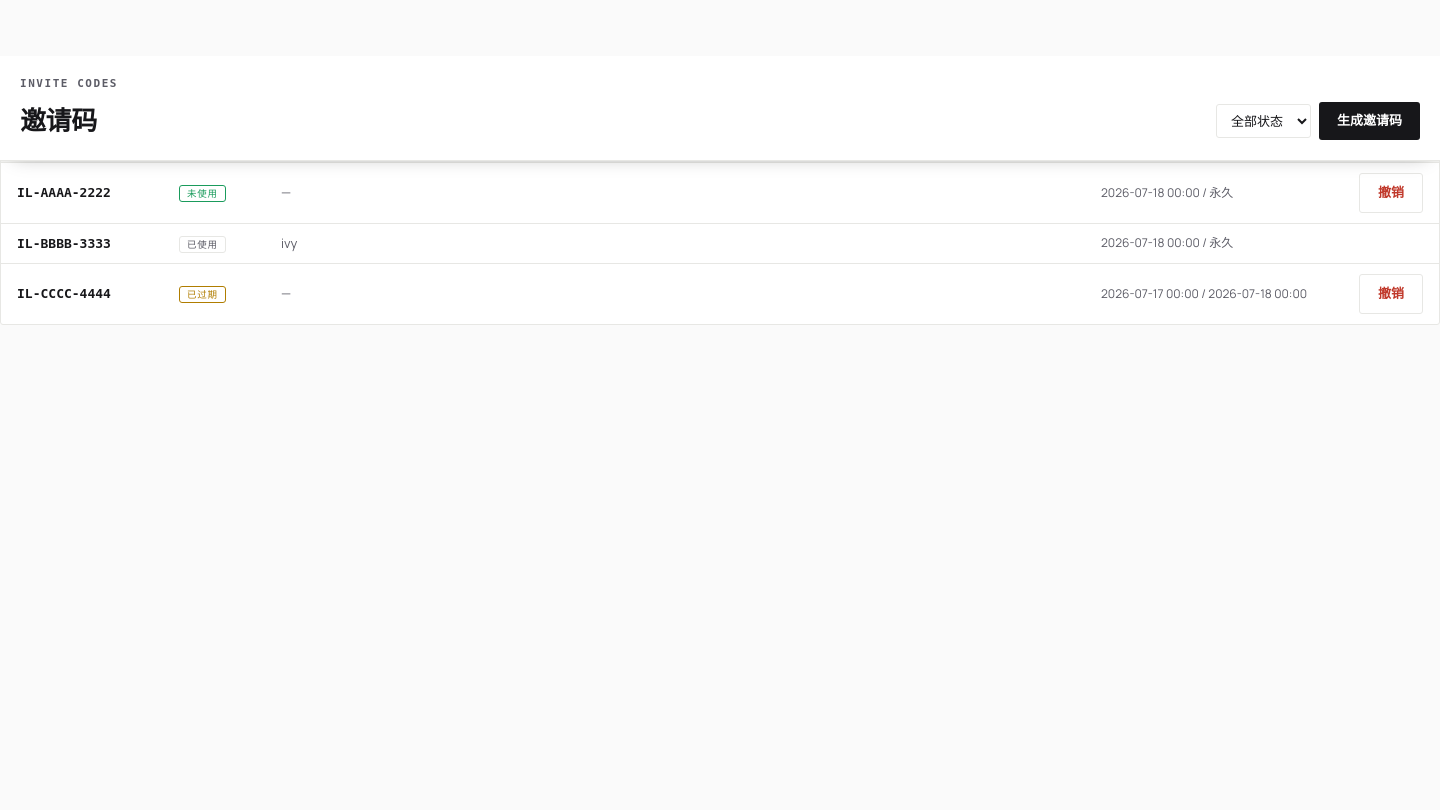
Test case: 生成:填数量提交,展示明文码列表
The image size is (1440, 810).
Expected: the text "IL-AAAA-2222" is shown, [17,185,111,200]
Click the button "生成邀请码": (1370, 121) [1319,102,1420,140]
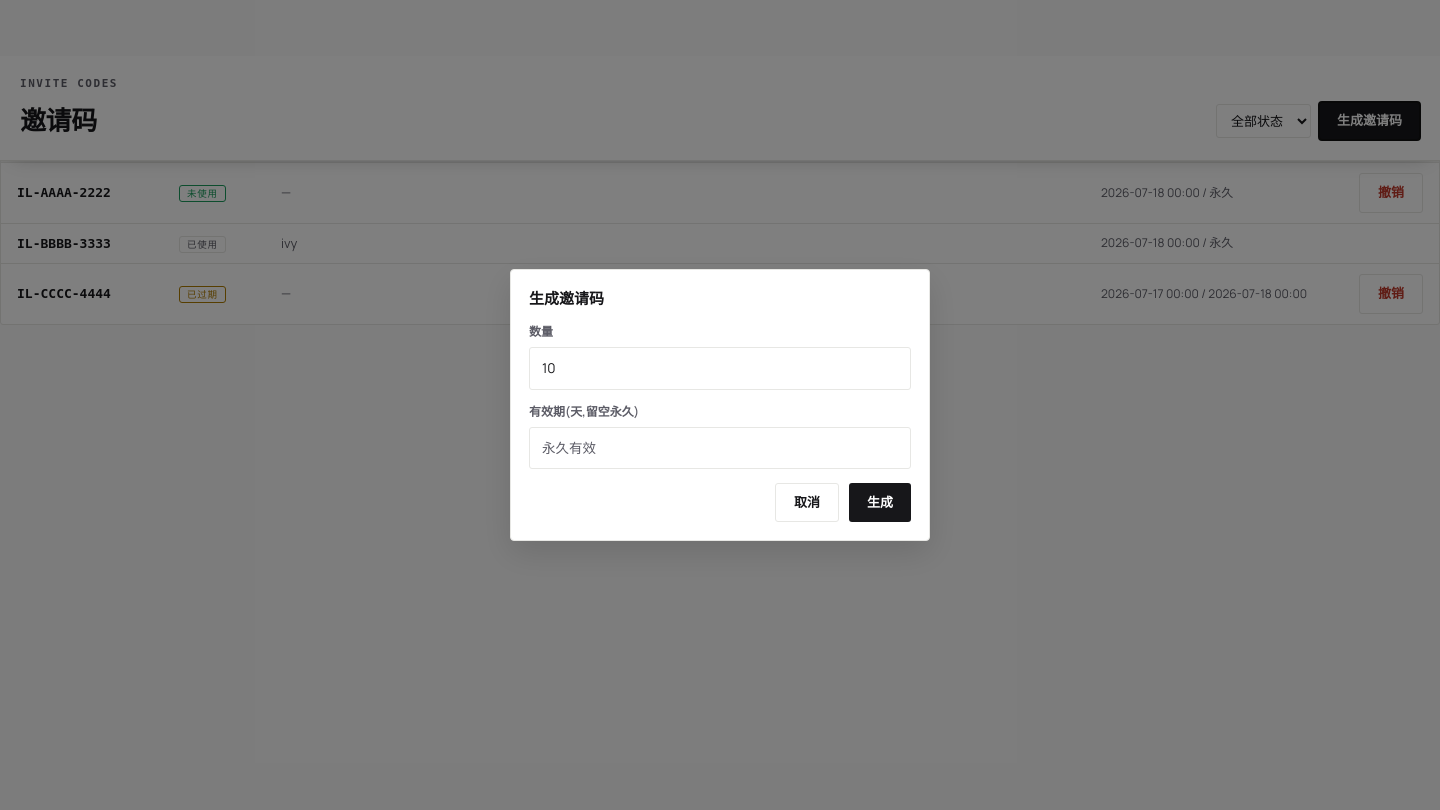
Replace the text in the number field labelled "数量" with "2": (720, 368) [529,347,911,390]
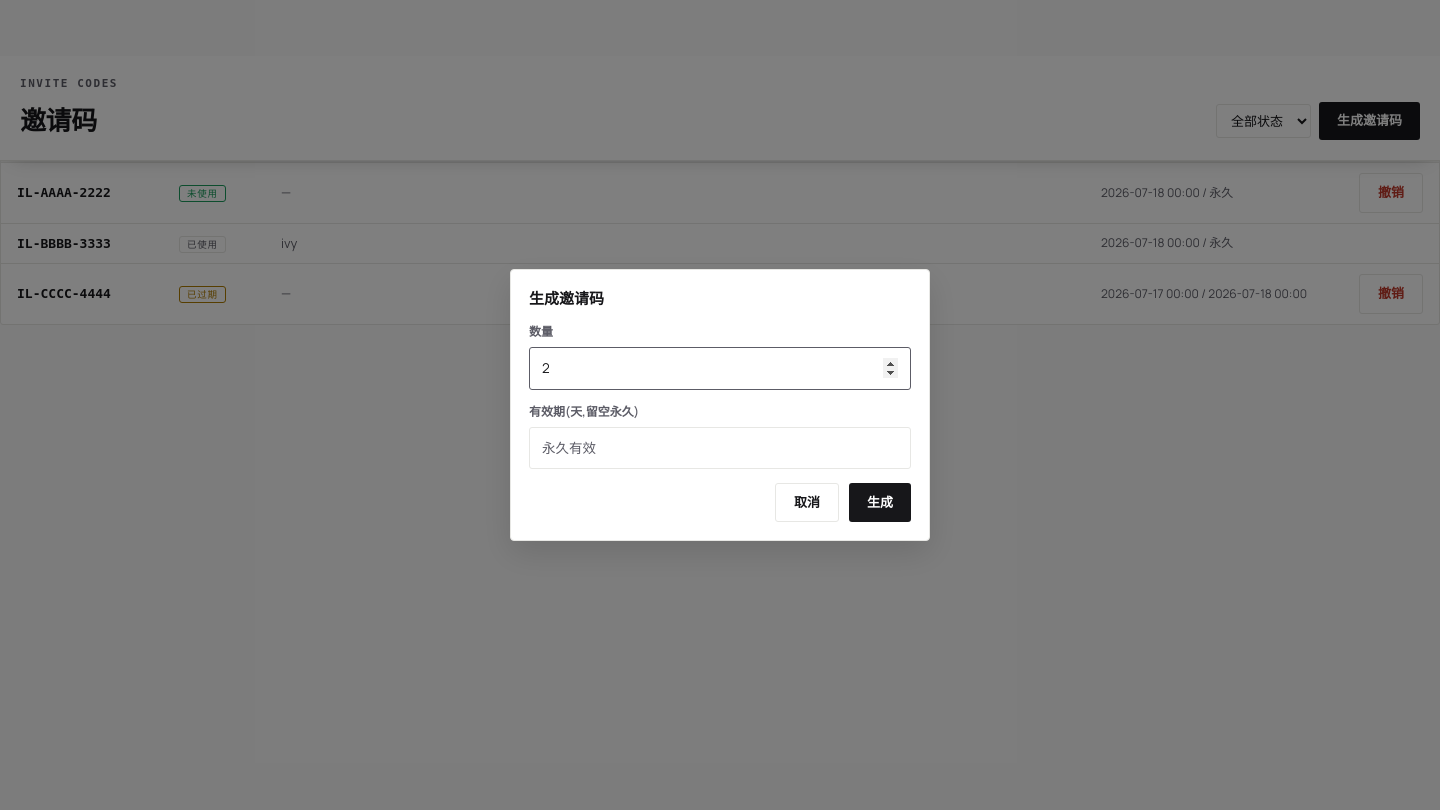
Click the button "生成": (880, 503) [849,483,911,522]
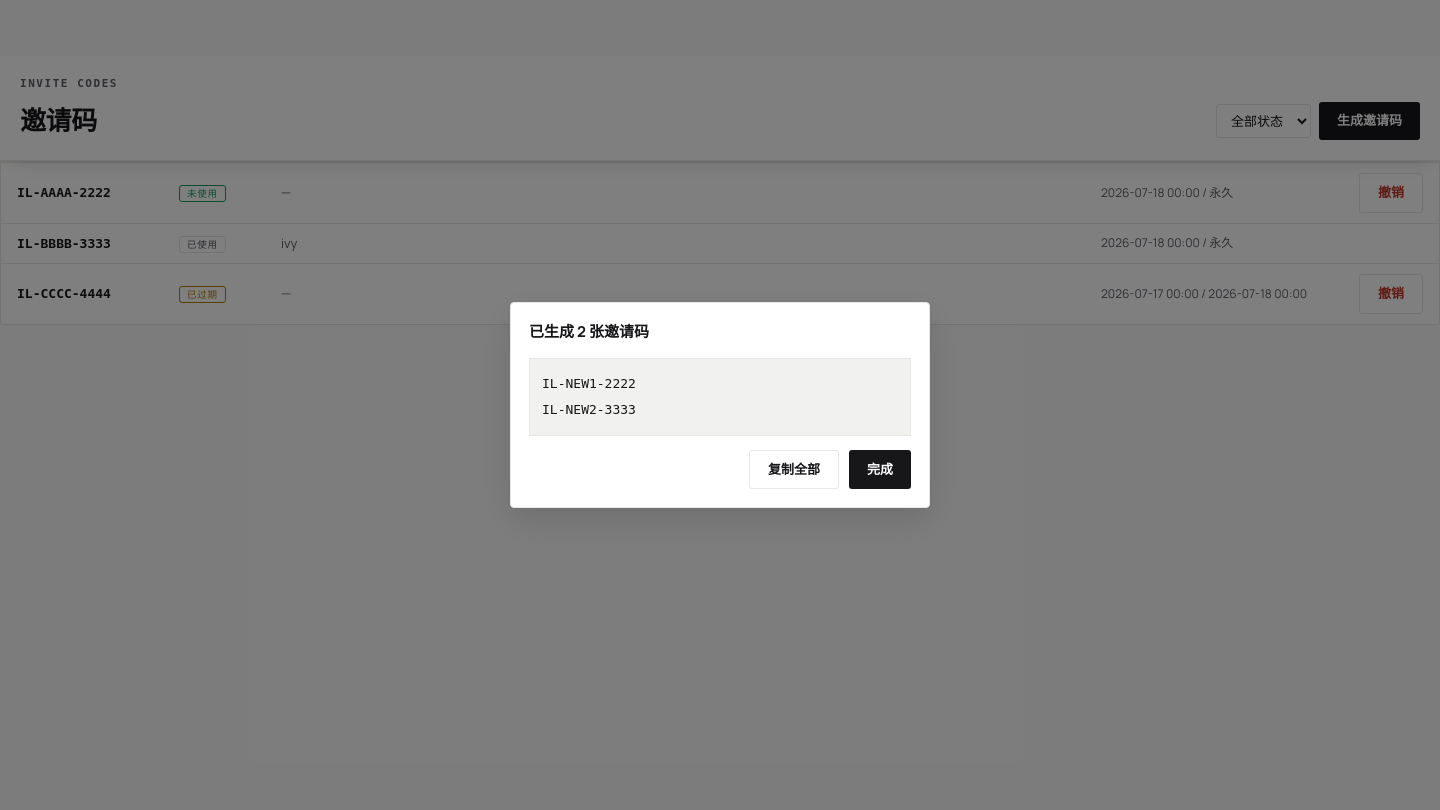
Result: the text "IL-NEW1-2222 IL-NEW2-3333" is shown at [529,358,911,436]
